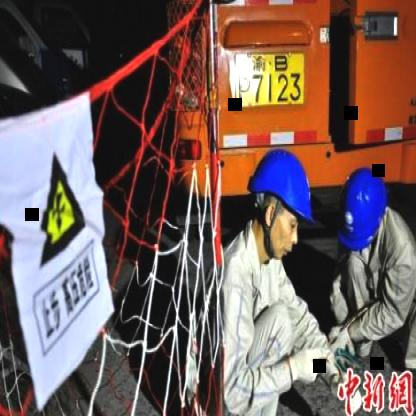helmet: (242, 140, 314, 270), (338, 164, 391, 270)
